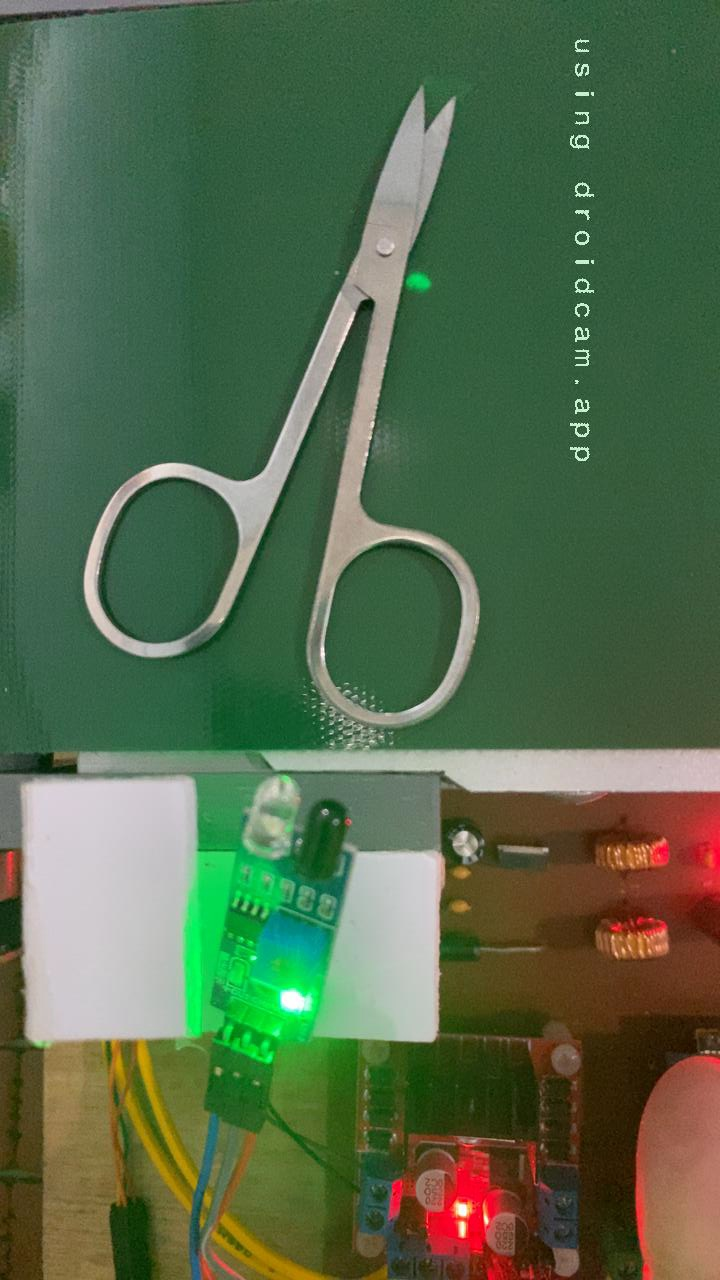scissor: (76, 83, 488, 733)
